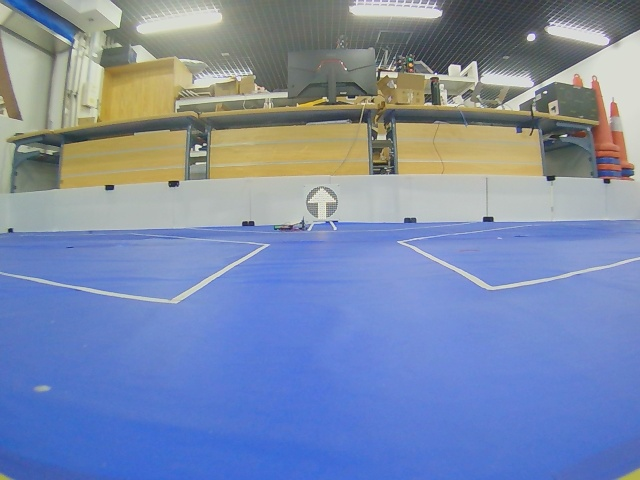straight_yellow: (305, 186, 337, 218)
